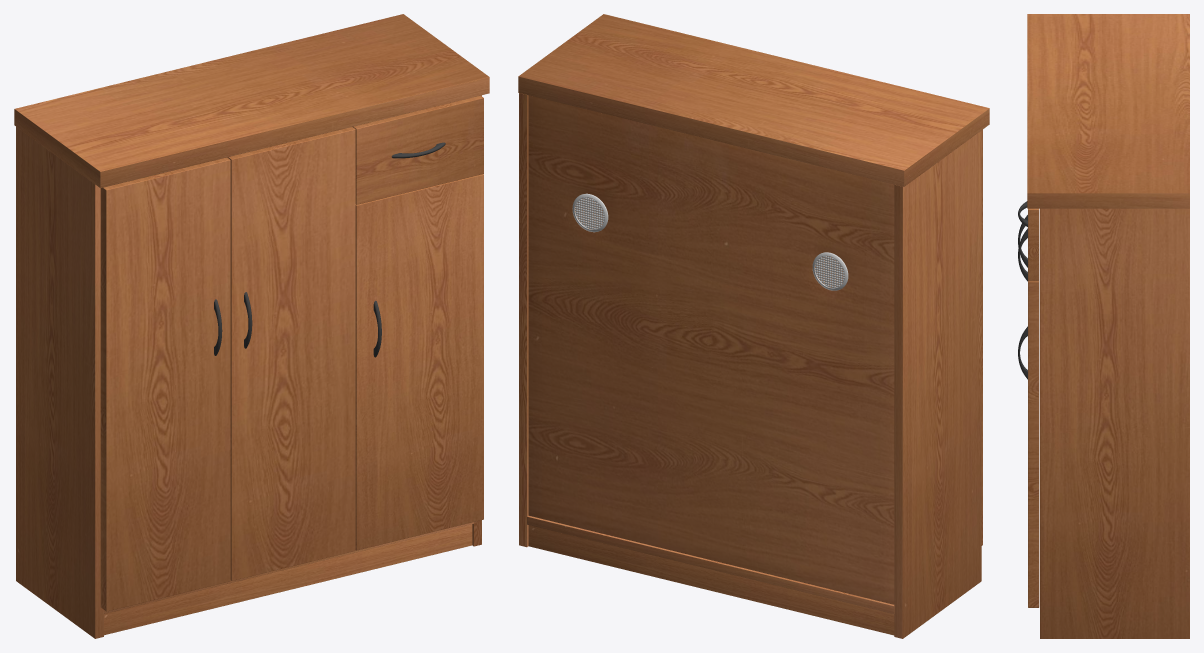
3 views of the same model, side by side, from view 1: azimuth 30°, elevation 25°; view 2: azimuth 150°, elevation 25°; view 3: azimuth 270°, elevation 25° (orthographic). The views are drawn at different scales.
Parts seen in each view (by area): view 1: Box003.002, Object035, Box001.004, Object034, Object002.003, Object033, Object.005; view 2: Box004.002, Box001.004, Object002.003, Object003.004, Object.005, Box003.002, Object028.001, Object029.001; view 3: Object003.004, Box001.004, Object034, Object033.
Part boxes in pixels (x1,y1,x2,y2): Box003.002: [100, 157, 230, 611]; Object035: [227, 127, 355, 580]; Box001.004: [14, 14, 489, 635]; Object034: [355, 174, 483, 550]; Object002.003: [16, 127, 103, 638]; Object033: [353, 95, 483, 204]; Object.005: [104, 522, 473, 613]; Box004.002: [528, 95, 894, 604]; Box001.004: [518, 14, 989, 635]; Object002.003: [894, 130, 981, 638]; Object003.004: [519, 93, 528, 547]; Object.005: [527, 256, 894, 613]; Box003.002: [981, 129, 982, 545]; Object028.001: [575, 197, 604, 229]; Object029.001: [815, 256, 844, 287]; Object003.004: [1040, 208, 1189, 638]; Box001.004: [1027, 14, 1189, 208]; Object034: [1028, 281, 1039, 607]; Object033: [1028, 208, 1039, 281].
Bounding box in the file's own units: 96.53 × 112 × 39.13.
3 materials, 1 textured.
